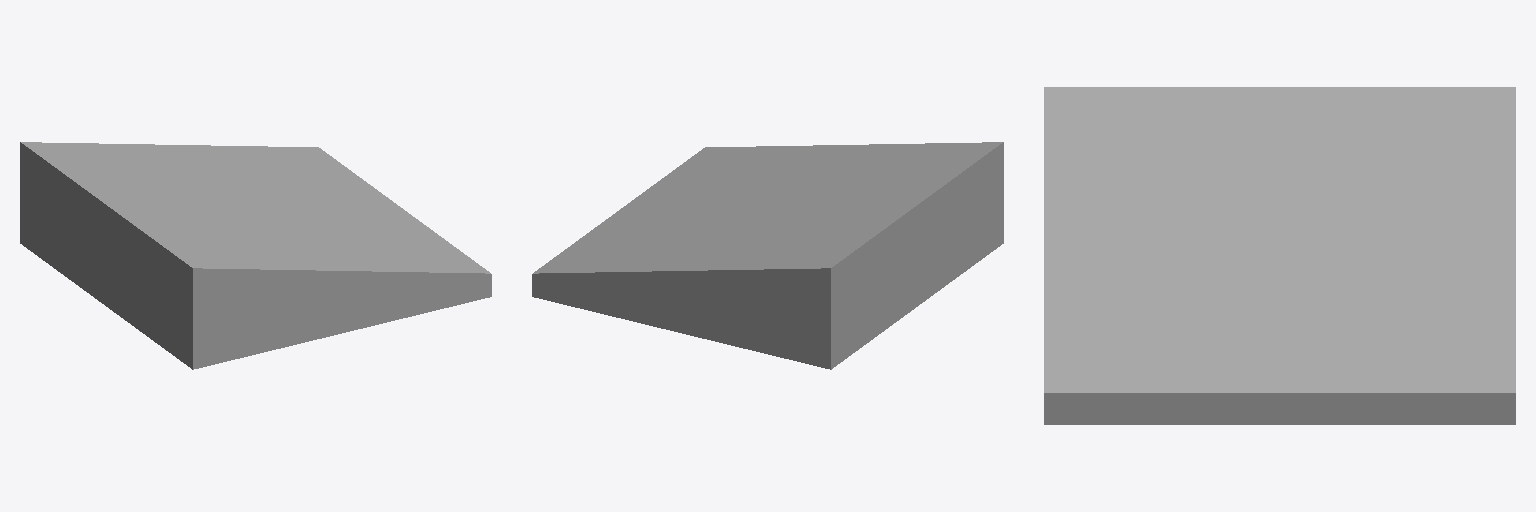
URDF robot description (40x40_15deg):
<?xml version='1.0' encoding='utf-8'?>
<robot name="40x40_15deg">
  <link name="base_link">
    <inertial>
      <origin xyz="0.0 0.0 0.0" rpy="0 0 0" />
      <mass value="1" />
      <inertia ixx="0.001" ixy="0" ixz="0" iyy="0.001" iyz="0" izz="0.001" />
    </inertial>
    <visual>
      <origin xyz="0 0 0" rpy="0 0 0" />
      <geometry>
        <mesh filename="package://40x40_15deg/meshes/40X40_15deg.stl" scale="1 1 1" />
      </geometry>
      <material name="grey">
        <color rgba="0.7 0.7 0.7 1.0" />
      </material>
    </visual>
    <collision>
      <origin xyz="0 0 0" rpy="0 0 0" />
      <geometry>
        <mesh filename="package://40x40_15deg/meshes/40X40_15deg.stl" scale="1 1 1" />
      </geometry>
    </collision>
  </link>
</robot>

--- Render facts (derived) ---
Views: 3 orthographic renders of the robot side by side, from view 1: azimuth 30°, elevation 25°; view 2: azimuth 150°, elevation 25°; view 3: azimuth 270°, elevation 25°.
Robot: 40x40_15deg — 1 links, 0 joints (none); root link base_link; default pose: all joints at 0.
Links seen in each view (by area): view 1: base_link; view 2: base_link; view 3: base_link.
Boxes of the visible links, x1=… form: base_link: x1=20, y1=142, x2=491, y2=369; base_link: x1=532, y1=142, x2=1003, y2=369; base_link: x1=1044, y1=87, x2=1515, y2=424.
Size in the robot's own frame: 0.4 by 0.4 by 0.13 metres.
1 mesh visuals loaded from 1 distinct referenced files (1 binary STL).